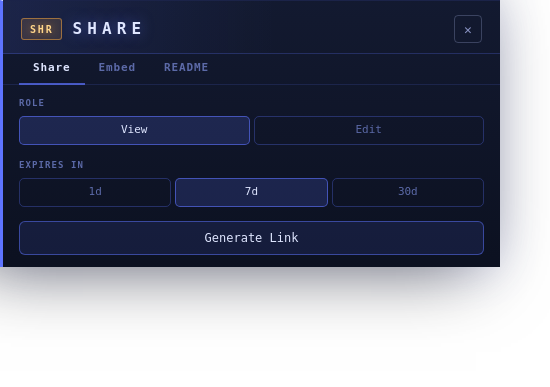
Test case: ShareDialog – generate flow › surfaces the server message from a non-token response body
This screenshot has width=550, height=387.
Click the button with class "share-generate-btn".
click(252, 238)  # box [19,220,484,254]
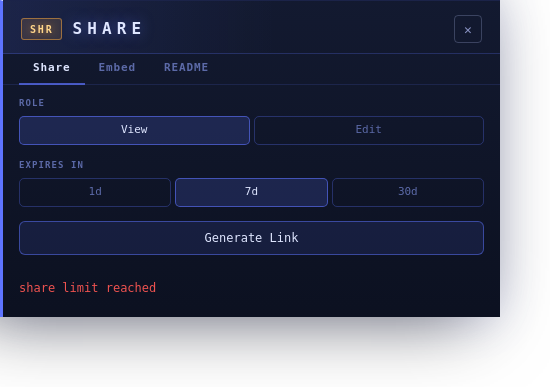
Result: the text "share limit reached" is shown at [19,280,156,294]
